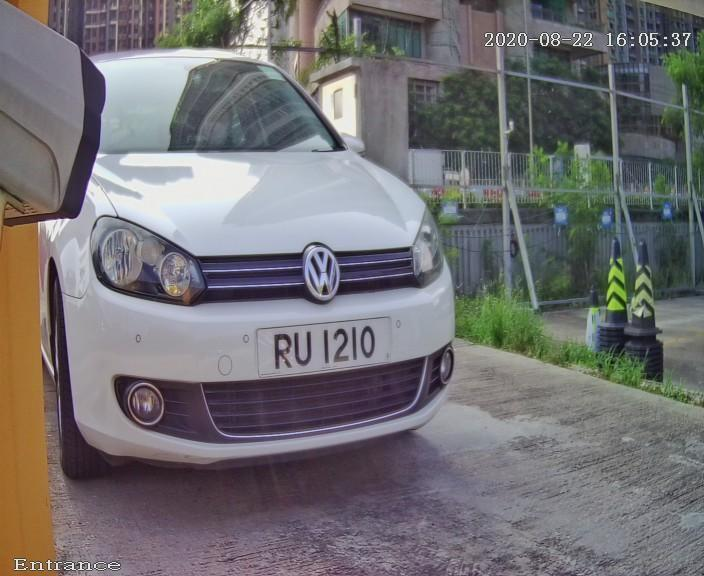Car: (13, 11, 494, 505)
License Plate: (235, 297, 417, 394)
